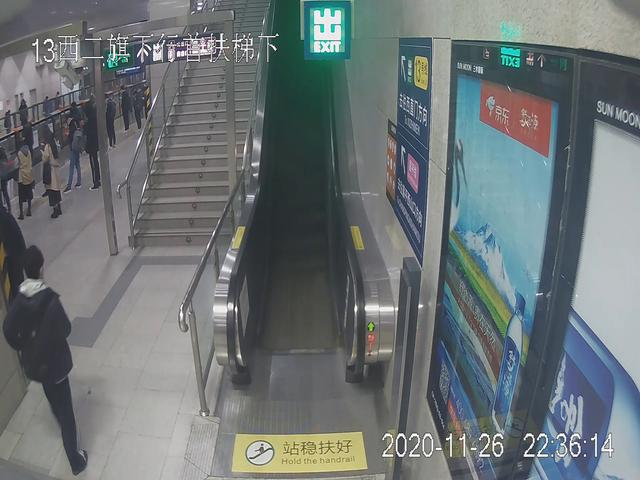person: (5, 244, 89, 473), (39, 128, 68, 219), (57, 114, 84, 195), (14, 135, 38, 226), (100, 94, 120, 154), (114, 83, 132, 134)
